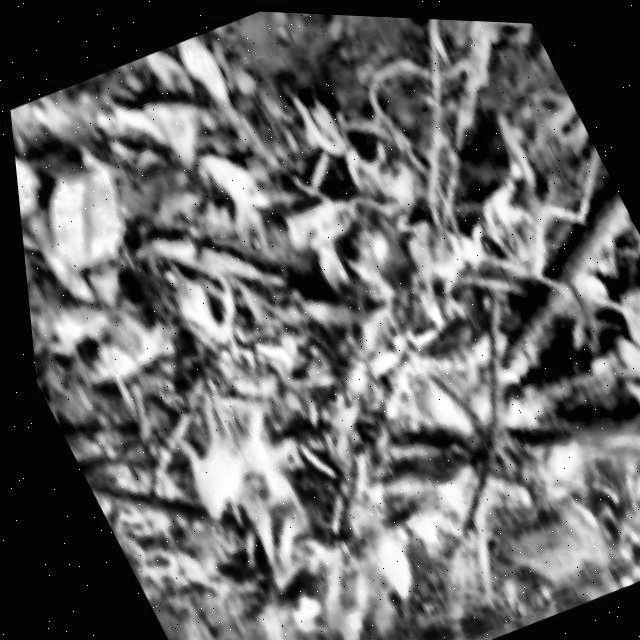Fire: (109, 276, 601, 640)
